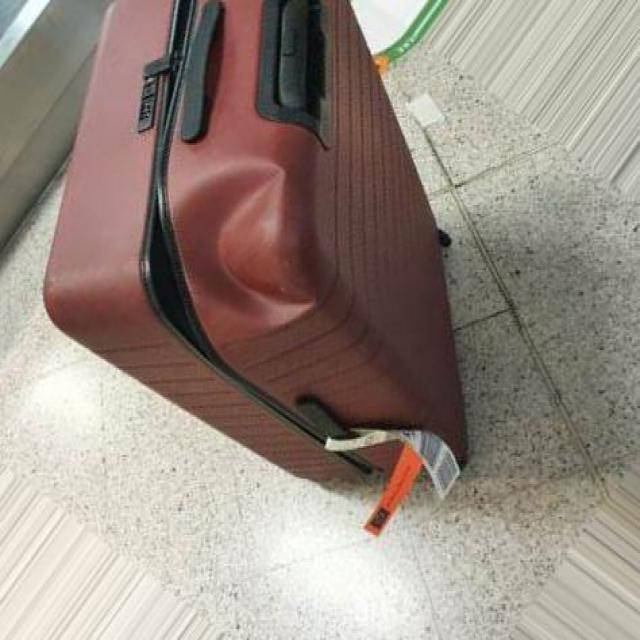Suitcase: (35, 0, 496, 505)
